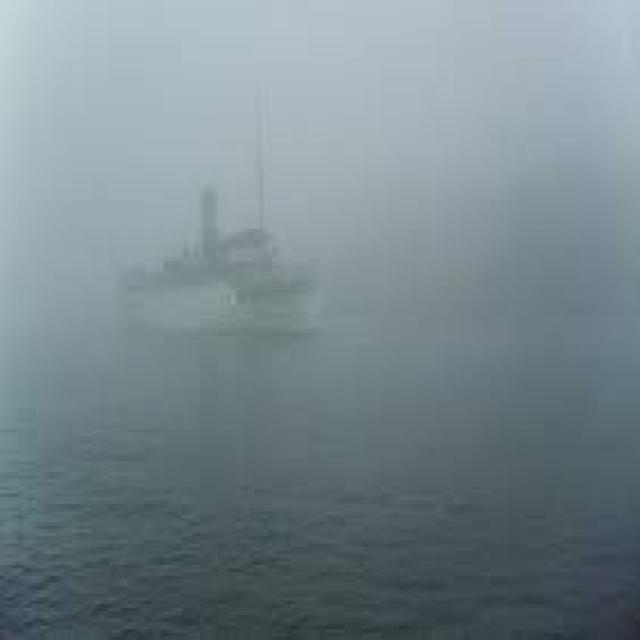cargoship: (120, 158, 352, 357)
